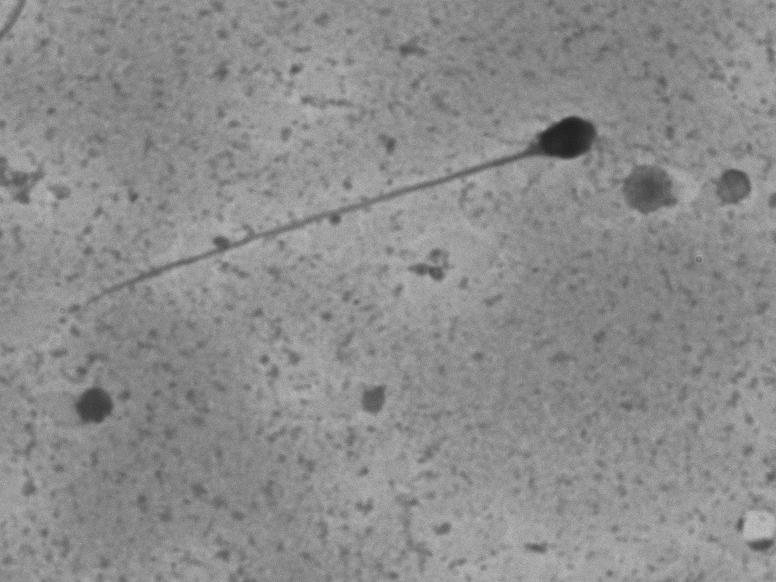Normal: (57, 104, 617, 333)
